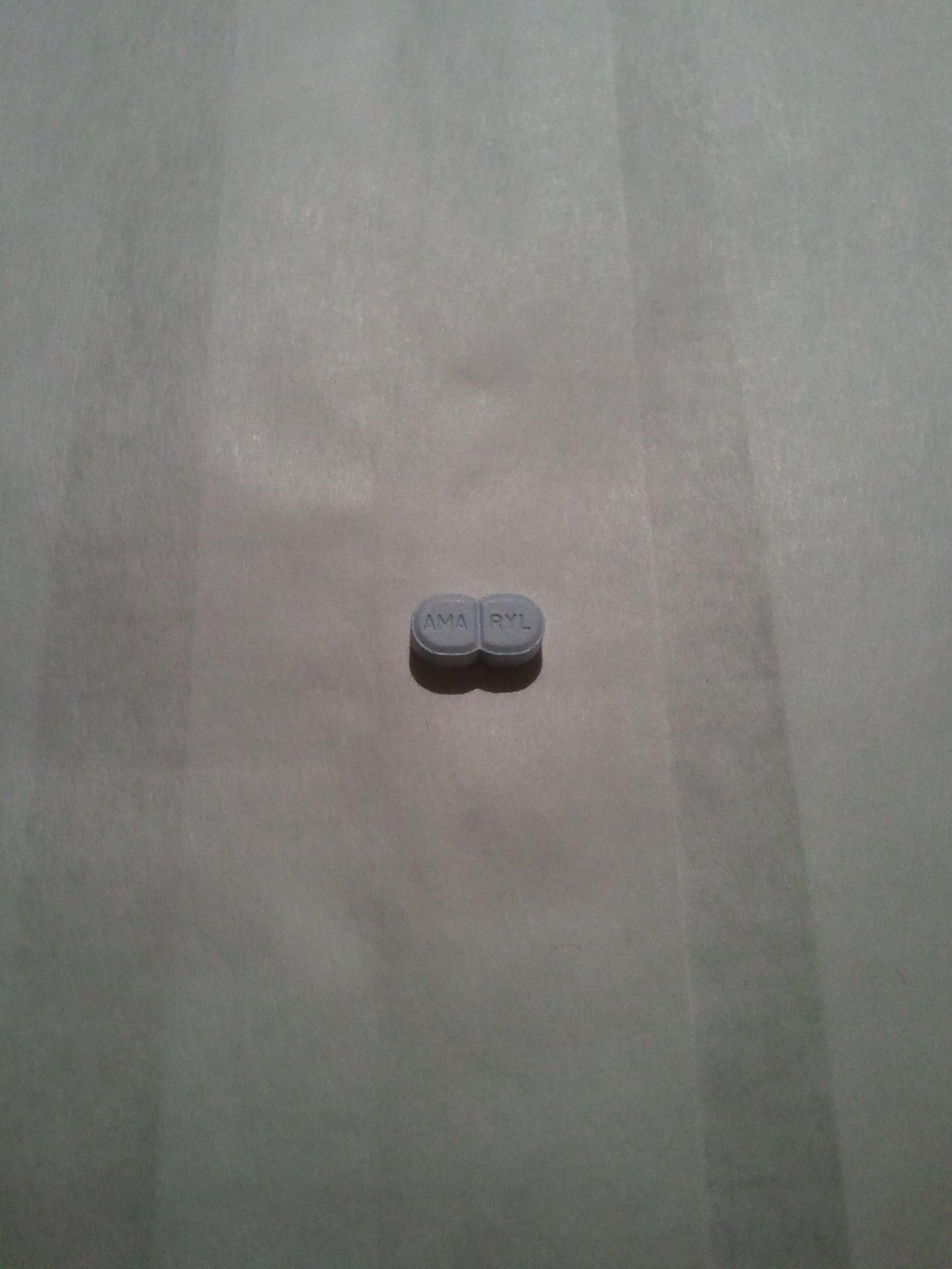Pill: (384, 575, 558, 695)
